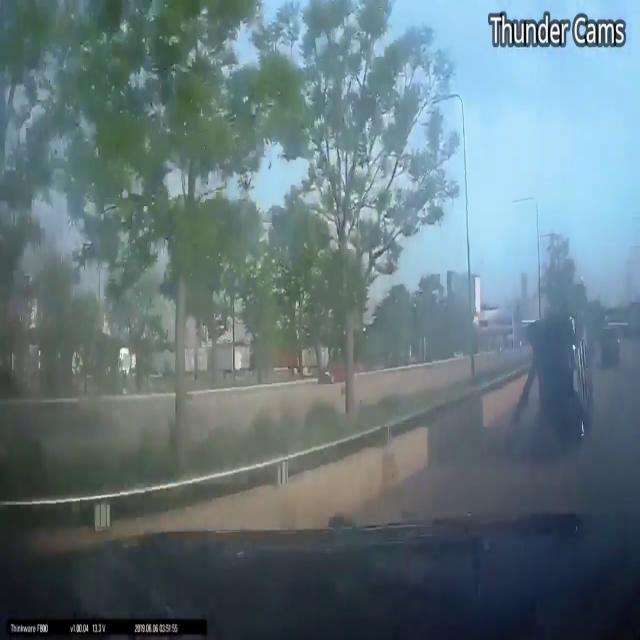accident: (512, 287, 608, 470)
